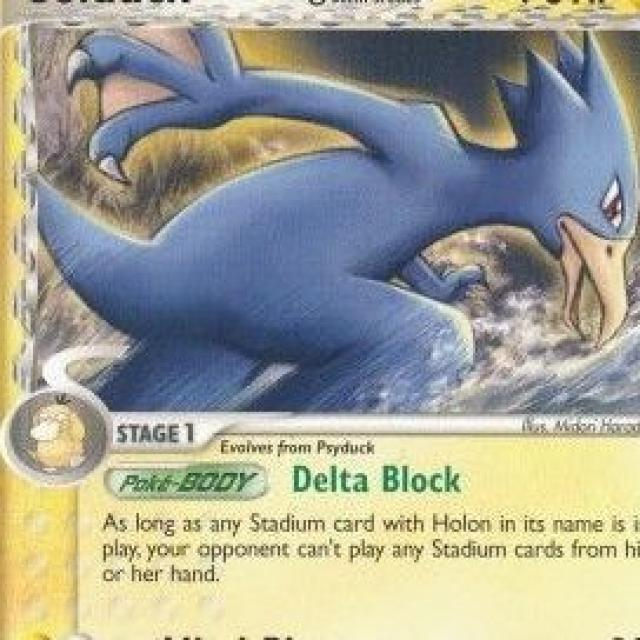Golduck: (39, 29, 640, 417)
